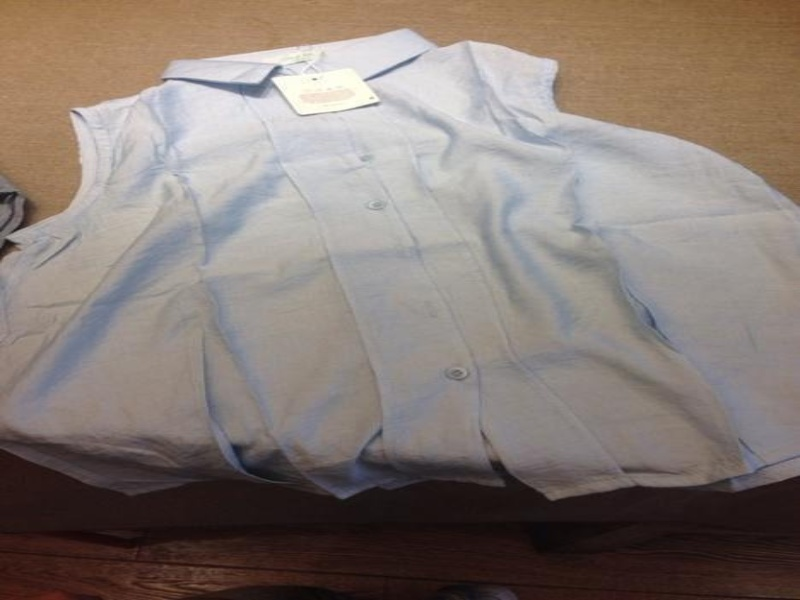vest: (0, 24, 798, 511)
